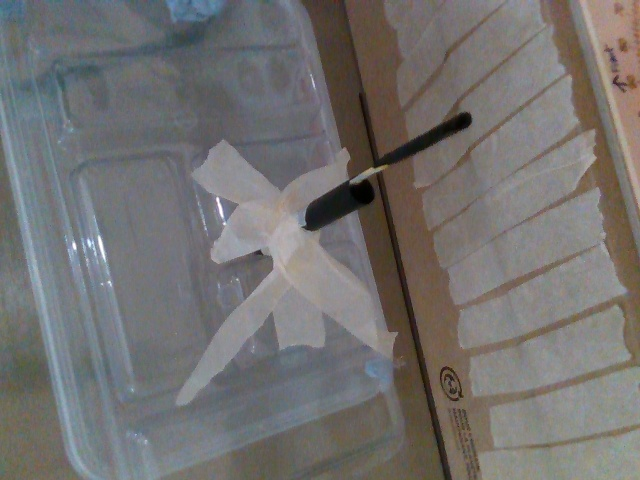test_strip: (350, 112, 471, 182)
